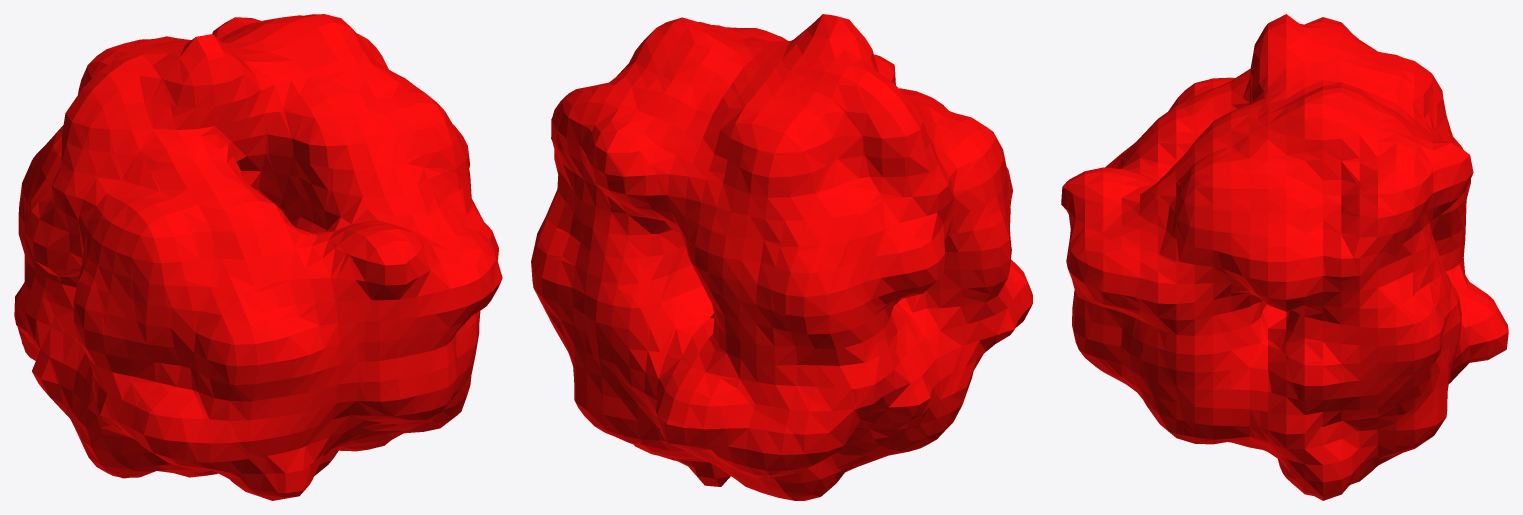
File: queD_coarse.dae
The picture shows the model from 3 angles, left to right: view 1: azimuth 30°, elevation 25°; view 2: azimuth 150°, elevation 25°; view 3: azimuth 270°, elevation 25°; orthographic projection. The views are drawn at different scales.
Visible parts, largest first — view 1: queD; view 2: queD; view 3: queD.
Boxes of the visible parts, x1,y1,x2,y2 form: queD: (14,14,502,500); queD: (531,14,1032,500); queD: (1061,14,1508,500).
Bounding box in the file's own units: 65.35 × 75.4 × 70.53.
